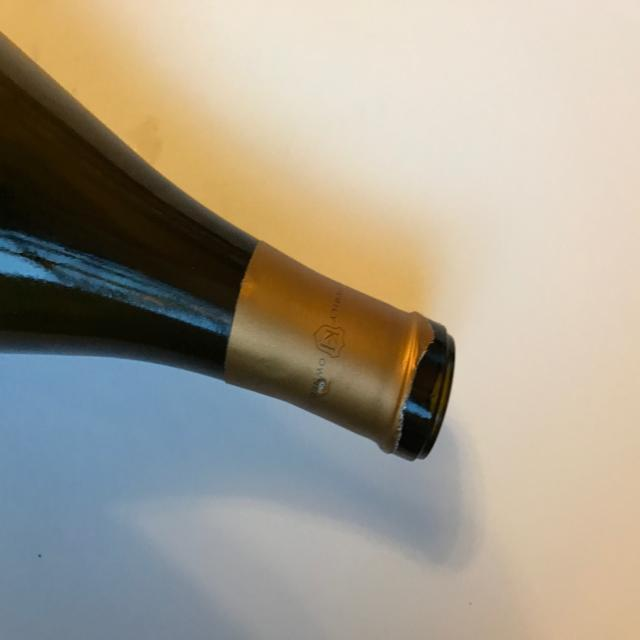glass: (1, 31, 456, 468)
